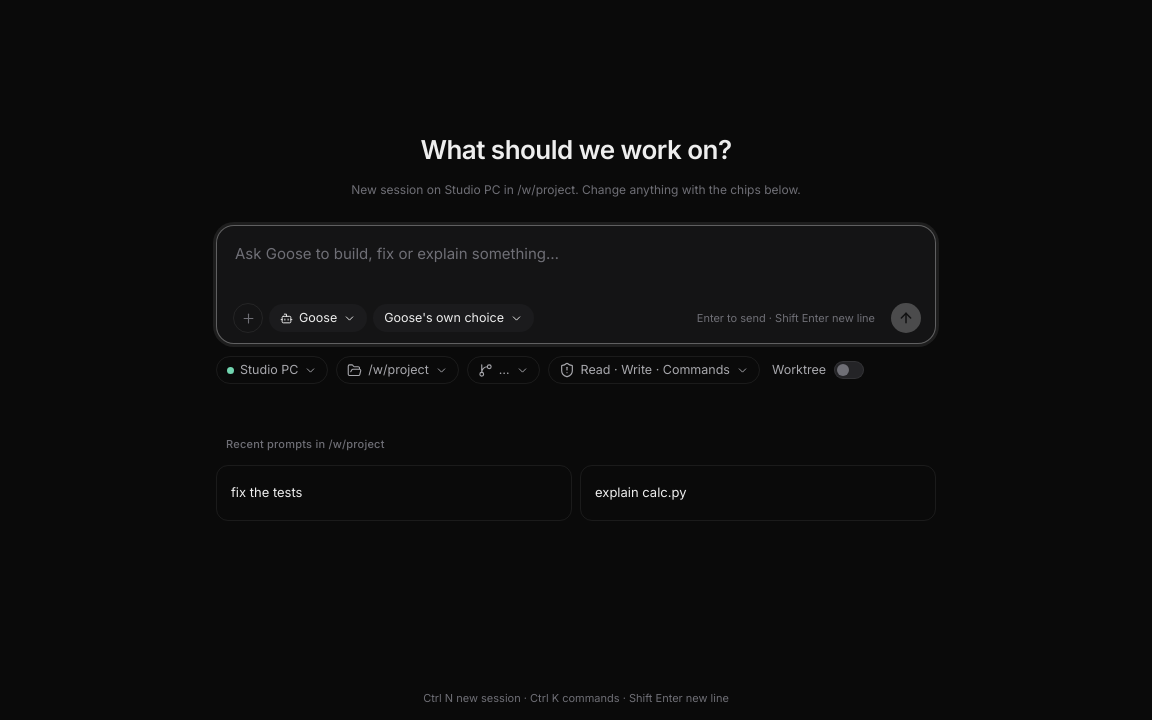
Test case: chips and dropdowns › closes on an outside click
Click the button "Read · Write · Commands" at x=654, y=370, box [548,356,760,384]
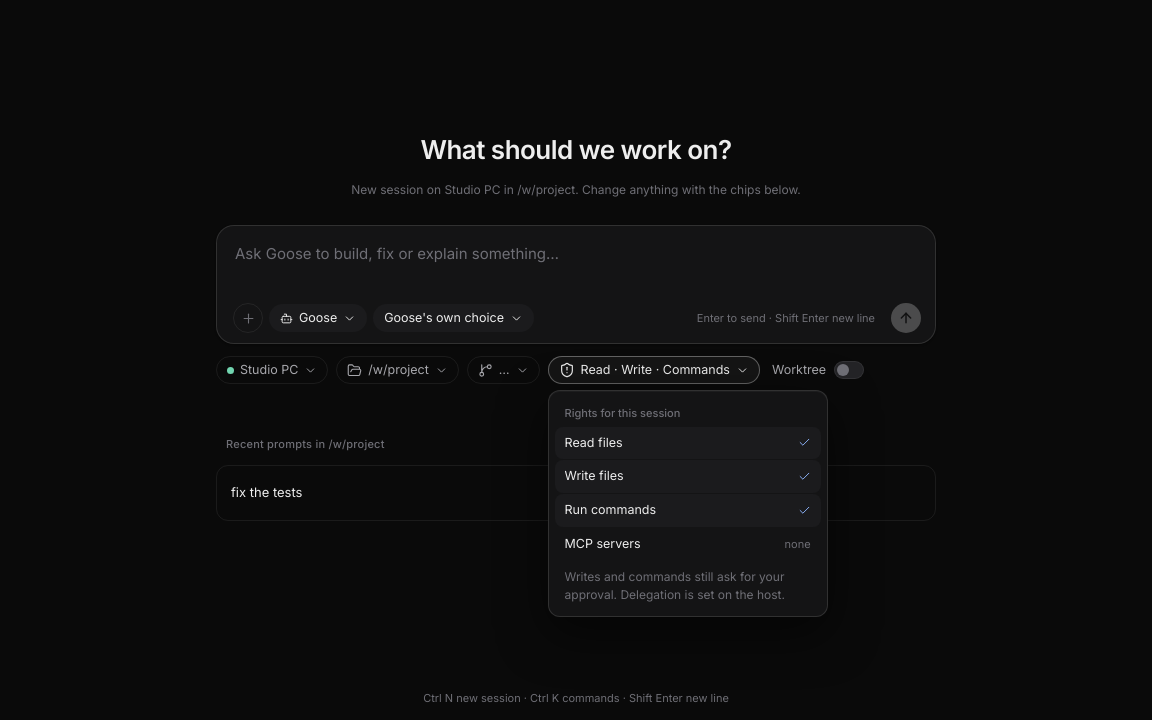
Expected: the dialog named "Access rights" is shown, [548,390,828,617]
Press the mouse on the element that starts with "What should we work on?" at x=576, y=360, box [0,0,1151,719]
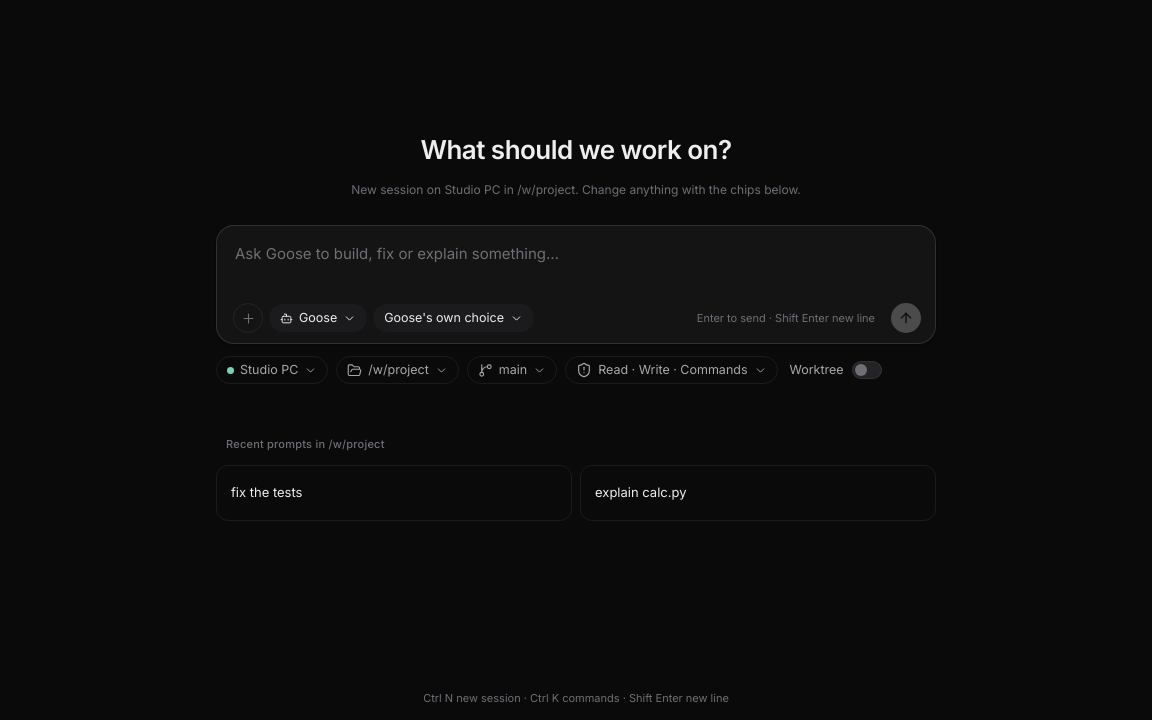
Expected: the dialog is gone
